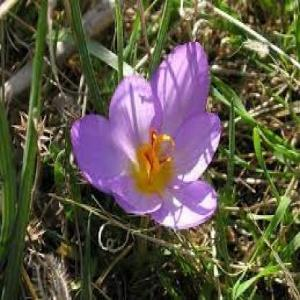Saffron: (70, 41, 223, 230)
